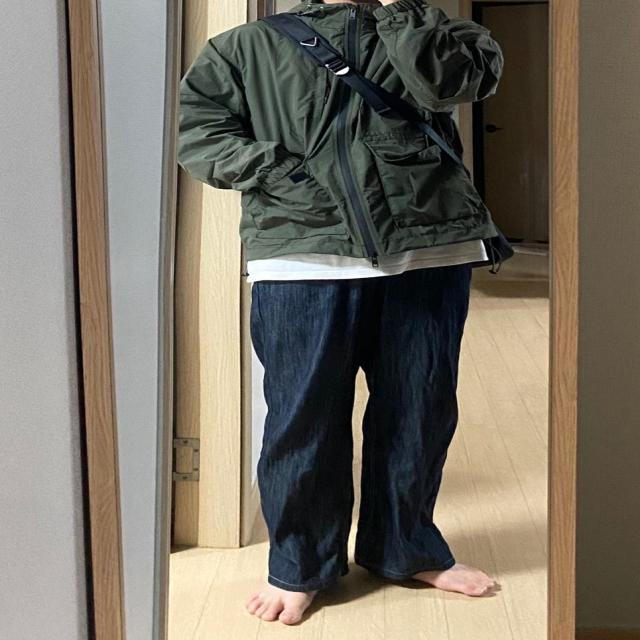denimpants: (254, 262, 474, 591)
jacket: (175, 2, 505, 265)
